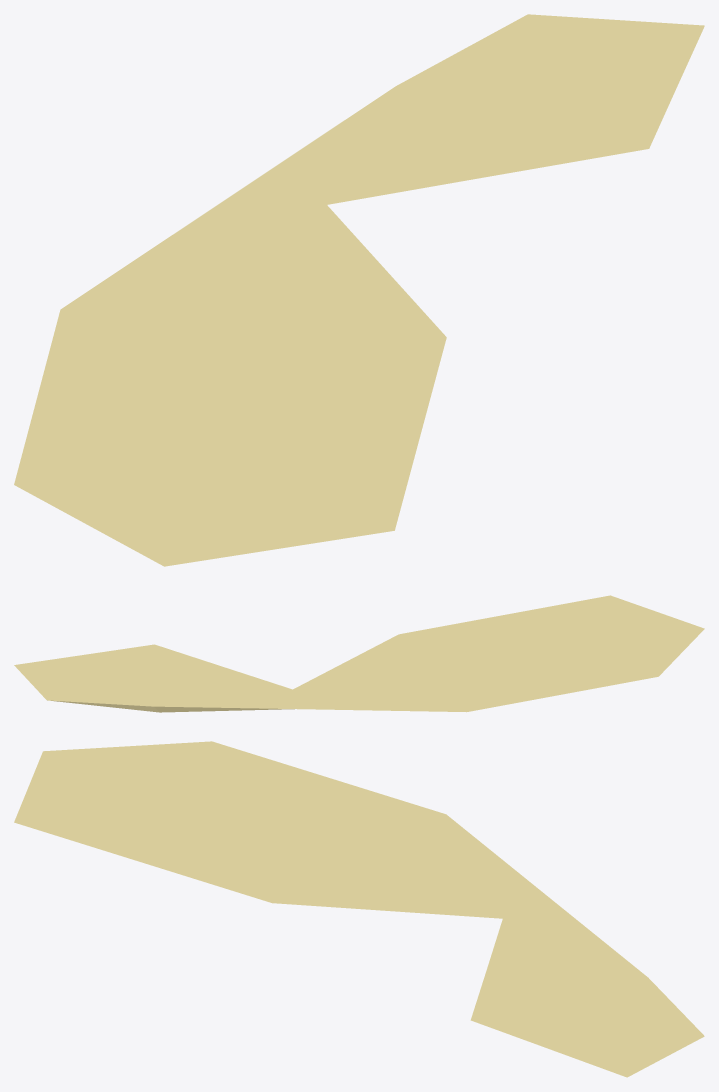
The model's file is DecalPlane256_01_Physics_Win32.glb.
The picture shows the model from 3 angles, top to bottom: view 1: azimuth 30°, elevation 25°; view 2: azimuth 150°, elevation 25°; view 3: azimuth 270°, elevation 25°; orthographic projection. The views are drawn at different scales.
Visible parts, largest first — view 1: r0_i0_p0_convex, r1_p0_mesh, r0_i1_p0_convex; view 2: r1_p0_mesh, r0_i0_p0_convex, r0_i1_p0_convex; view 3: r0_i0_p0_convex, r1_p0_mesh, r0_i1_p0_convex.
Part boxes in pixels (x1,y1,x2,y2): r0_i0_p0_convex: (14,188,446,565); r1_p0_mesh: (15,14,703,566); r0_i1_p0_convex: (244,14,704,204); r1_p0_mesh: (14,596,704,712); r0_i0_p0_convex: (293,595,704,699); r0_i1_p0_convex: (26,654,295,712); r0_i0_p0_convex: (14,741,552,905); r1_p0_mesh: (14,741,701,1076); r0_i1_p0_convex: (471,918,704,1077).
Size of the model in its own units: 1.9 by 0.0979 by 1.65.
